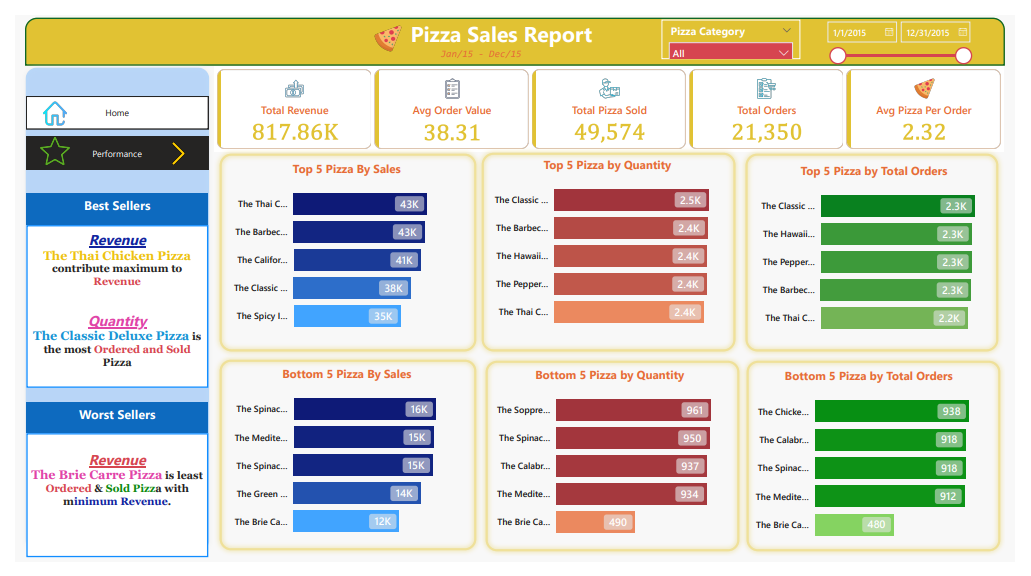

The page's visual inventory and layout, read from the dashboard file:
{"tool":"powerbi","page":{"name":"Performance","canvas":[1500,820],"ordinal":1},"visuals":[{"type":"cardVisual","fields":{"Data":["Measures (2).Total Revenue","Measures (2).Avg Order Value","Measures (2).Total Pizza Sold","Measures (2).Total Orders","Measures (2).AVg Pizza Per Order"]},"box":[298.7,77.5,1183.9,127.2],"z":0},{"type":"shape","box":[14.8,3.7,1469.8,72],"z":1000},{"type":"textbox","box":[564.3,0,331.9,59],"z":2000},{"type":"textbox","box":[634.4,44.3,142,27.7],"z":3000},{"type":"image","box":[534.8,9.2,49.8,51.6],"z":4000},{"type":"shape","box":[298.7,201,400,310],"z":5000},{"type":"shape","box":[298.7,509,400.2,300.6],"z":6000},{"type":"shape","box":[9.2,71.9,289.5,739.5],"z":7000},{"type":"textbox","box":[16.6,267.5,272.9,47.9],"z":8000},{"type":"textbox","box":[16.6,315.5,272.9,243.4],"z":9000},{"type":"textbox","box":[16.6,581,272.9,47.9],"z":10000},{"type":"textbox","box":[16.6,627.1,272.9,186.3],"z":11000},{"type":"slicer","fields":{"Values":["pizza_sales.pizza_category"]},"box":[970,7.4,208.4,59],"z":12000},{"type":"slicer","fields":{"Values":["pizza_sales.order_date"]},"box":[1206.1,0,237.9,75.6],"z":13000},{"type":"shape","box":[693.4,199.2,394.6,311.7],"z":14000},{"type":"shape","box":[698.9,510.8,394.6,300.6],"z":15000},{"type":"shape","box":[1088,201,394.6,309.8],"z":16000},{"type":"shape","box":[1089.9,510.8,394.6,300.6],"z":17000},{"type":"barChart","title":"Top 5 Pizza By Sales","fields":{"Category":["pizza_sales.pizza_name"],"Y":["Measures (2).Total Revenue"]},"box":[311.7,217.6,372.5,272.9],"z":18000},{"type":"barChart","title":"Bottom 5 Pizza By Sales","fields":{"Category":["pizza_sales.pizza_name"],"Y":["Measures (2).Total Revenue"]},"box":[311.7,525.6,372.5,272.9],"z":19000},{"type":"barChart","title":"Top 5 Pizza by Quantity","fields":{"Category":["pizza_sales.pizza_name"],"Y":["Measures (2).Total Pizza Sold"]},"box":[702.6,212.1,372.5,272.9],"z":20000},{"type":"barChart","title":"Bottom 5 Pizza by Quantity","fields":{"Category":["pizza_sales.pizza_name"],"Y":["Measures (2).Total Pizza Sold"]},"box":[706.3,527.4,372.5,272.9],"z":21000},{"type":"barChart","title":"Top 5 Pizza by Total Orders","fields":{"Category":["pizza_sales.pizza_name"],"Y":["Measures (2).Total Orders"]},"box":[1102.8,221.3,372.5,272.9],"z":22000},{"type":"barChart","title":"Bottom 5 Pizza by Total Orders","fields":{"Category":["pizza_sales.pizza_name"],"Y":["Measures (2).Total Orders"]},"box":[1094,529.3,374.3,274.6],"z":23000},{"type":"pageNavigator","box":[16.6,121.6,272.9,49.8],"z":24000},{"type":"pageNavigator","box":[16.6,182.3,272.9,49.8],"z":25000},{"type":"image","box":[33.2,125.3,53.5,44.3],"z":26000},{"type":"image","box":[33.2,174.7,53.5,57.2],"z":27000},{"type":"image","box":[223.1,186.3,44.3,42.4],"z":28000}]}

Visuals, with their boxes in screenshot pixels (x1, y1, x2, y2), scaled from the page's 1500x820 canvas onto the 1031x576 screenshot:
cardVisual - Measures (2).Total Revenue x Measures (2).Avg Order Value: box(205, 54, 1019, 144)
shape: box(10, 3, 1020, 53)
textbox: box(388, 0, 616, 41)
textbox: box(436, 31, 534, 51)
image: box(368, 6, 402, 43)
shape: box(205, 141, 480, 359)
shape: box(205, 358, 480, 569)
shape: box(6, 51, 205, 570)
textbox: box(11, 188, 199, 222)
textbox: box(11, 222, 199, 393)
textbox: box(11, 408, 199, 442)
textbox: box(11, 440, 199, 571)
slicer - pizza_sales.pizza_category: box(667, 5, 810, 47)
slicer - pizza_sales.order_date: box(829, 0, 993, 53)
shape: box(477, 140, 748, 359)
shape: box(480, 359, 752, 570)
shape: box(748, 141, 1019, 359)
shape: box(749, 359, 1020, 570)
"Top 5 Pizza By Sales" barChart: box(214, 153, 470, 345)
"Bottom 5 Pizza By Sales" barChart: box(214, 369, 470, 561)
"Top 5 Pizza by Quantity" barChart: box(483, 149, 739, 341)
"Bottom 5 Pizza by Quantity" barChart: box(485, 370, 741, 562)
"Top 5 Pizza by Total Orders" barChart: box(758, 155, 1014, 347)
"Bottom 5 Pizza by Total Orders" barChart: box(752, 372, 1009, 565)
pageNavigator: box(11, 85, 199, 120)
pageNavigator: box(11, 128, 199, 163)
image: box(23, 88, 60, 119)
image: box(23, 123, 60, 163)
image: box(153, 131, 184, 161)
